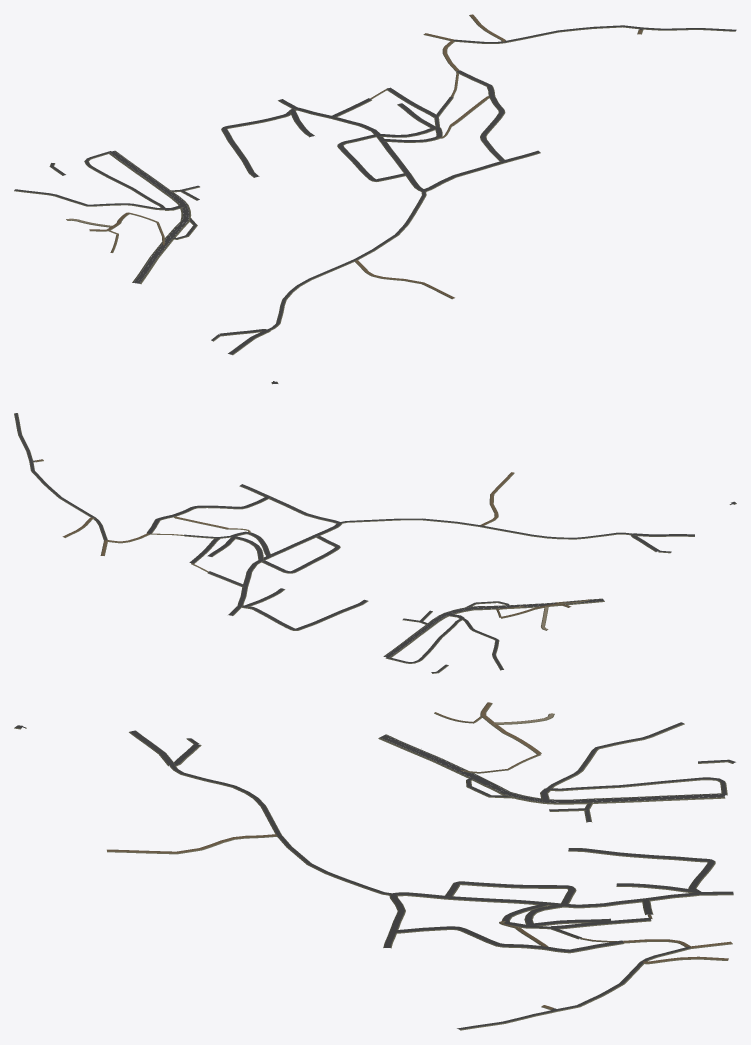
3 views of the same model, one above another, from view 1: azimuth 30°, elevation 25°; view 2: azimuth 150°, elevation 25°; view 3: azimuth 270°, elevation 25° (orthographic). The views are drawn at different scales.
Visible parts, largest first — view 1: roads; view 2: roads; view 3: roads.
Part boxes in pixels (left/top/right/bottom): roads: left=14, top=14, right=736, bottom=384; roads: left=14, top=413, right=736, bottom=673; roads: left=14, top=702, right=735, bottom=1030.
Bounding box in the file's own units: 809 × 96.9 × 622.
